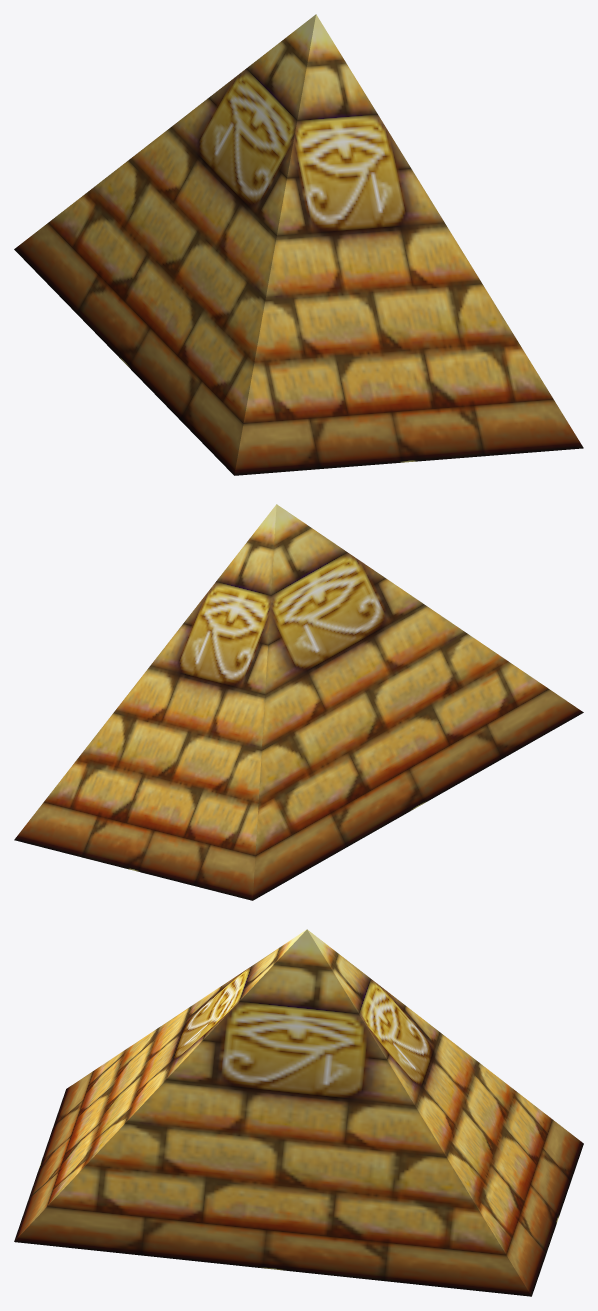
Rendered from obj1_lev1_lev3.glb.
3 views of the same model, one above another, from view 1: azimuth 30°, elevation 25°; view 2: azimuth 150°, elevation 25°; view 3: azimuth 270°, elevation 25° (orthographic). The views are drawn at different scales.
Parts seen in each view (by area): view 1: obj1_lev1_lev3; view 2: obj1_lev1_lev3; view 3: obj1_lev1_lev3.
Boxes of the visible parts, bbox=[...] form: obj1_lev1_lev3: bbox=[14, 14, 583, 475]; obj1_lev1_lev3: bbox=[14, 504, 583, 900]; obj1_lev1_lev3: bbox=[14, 929, 583, 1296].
Size of the model in its own units: 19.95 by 16.39 by 28.87.
Materials: 1 (1 with a texture image).
